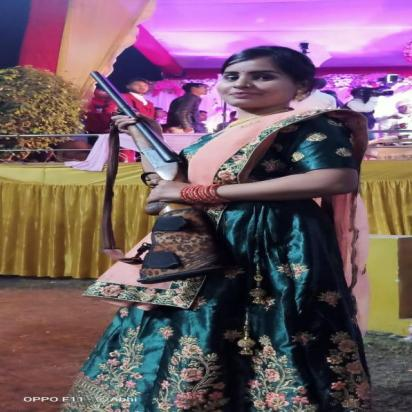Gun: (86, 68, 230, 286)
